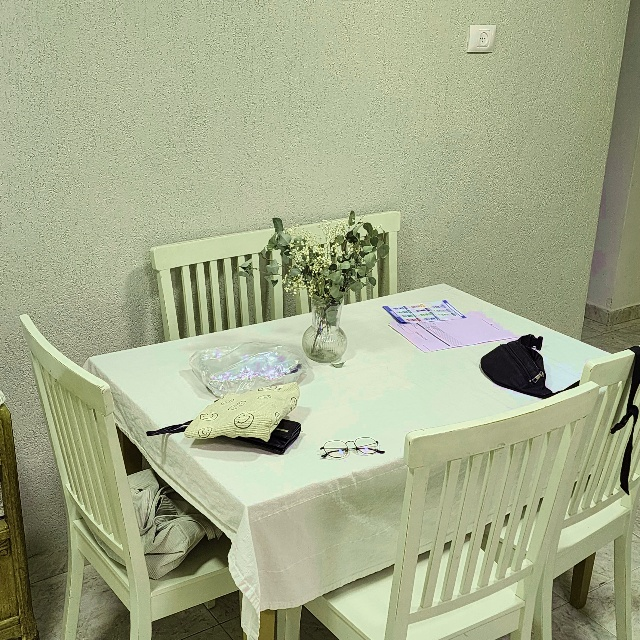glasses: (319, 436, 386, 460)
